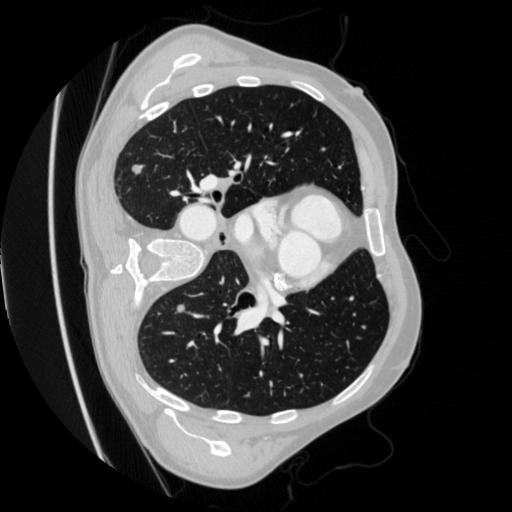nodule: (130, 163, 146, 179)
